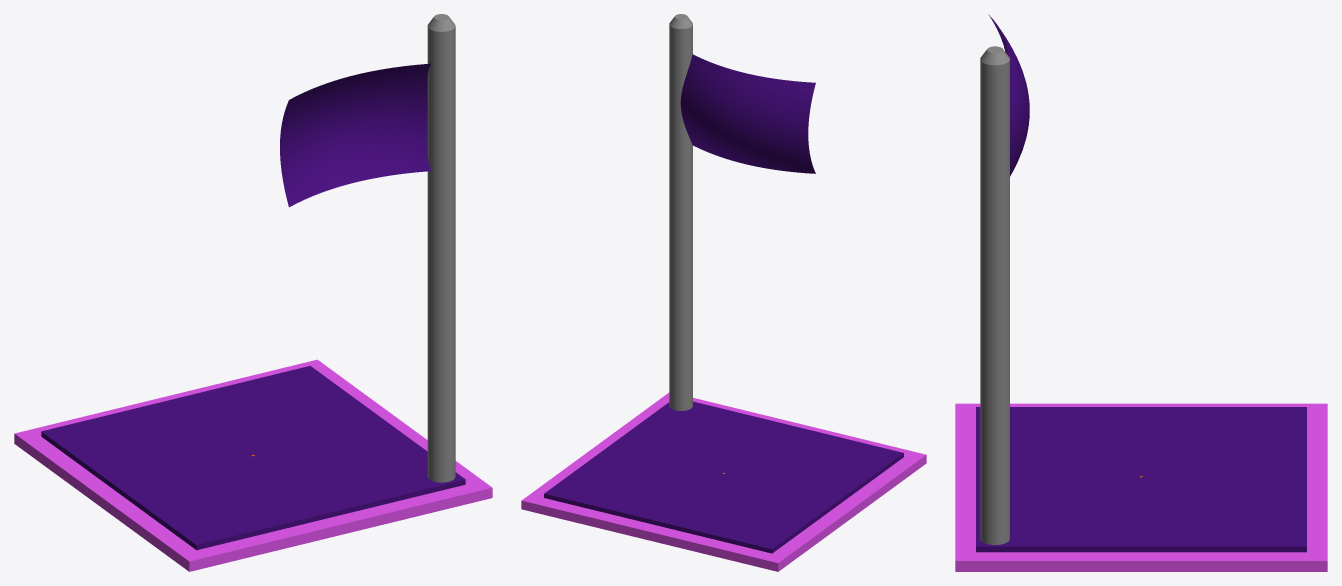
Rendered from checkpoint.fbx.
3 views of the same model, side by side, from view 1: azimuth 30°, elevation 25°; view 2: azimuth 150°, elevation 25°; view 3: azimuth 270°, elevation 25° (orthographic). The views are drawn at different scales.
Visible parts, largest first — view 1: Checkpoint; view 2: Checkpoint; view 3: Checkpoint.
Boxes of the visible parts, <box> form: Checkpoint: <box>14,14,492,571</box>; Checkpoint: <box>521,14,926,571</box>; Checkpoint: <box>955,14,1327,571</box>.
Size of the model in its own units: 144 by 215 by 144.
1 material, 1 textured.
